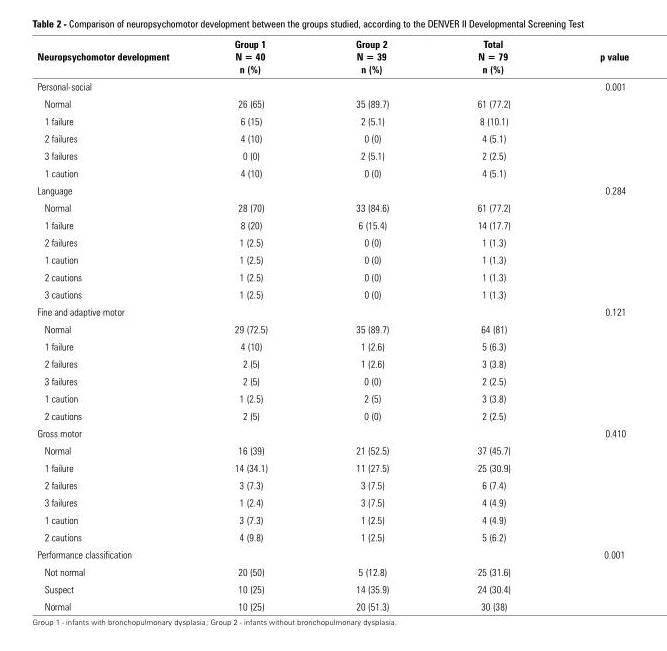table: (36, 37, 628, 611)
table column: (36, 37, 201, 611), (432, 37, 554, 611), (311, 37, 432, 611), (201, 37, 311, 611), (554, 37, 628, 611)
table column header: (36, 37, 628, 77)
table row: (36, 37, 628, 77), (36, 111, 628, 129), (36, 163, 628, 181), (36, 215, 628, 233), (36, 267, 628, 285), (36, 319, 628, 337), (36, 371, 628, 389), (36, 423, 628, 441), (36, 475, 628, 493), (36, 527, 628, 545), (36, 579, 628, 597), (36, 77, 628, 94), (36, 94, 628, 111), (36, 129, 628, 146), (36, 146, 628, 163), (36, 181, 628, 198), (36, 198, 628, 215), (36, 233, 628, 250), (36, 250, 628, 267), (36, 285, 628, 302), (36, 302, 628, 319), (36, 337, 628, 354), (36, 354, 628, 371), (36, 389, 628, 406), (36, 406, 628, 423), (36, 441, 628, 458), (36, 458, 628, 475), (36, 493, 628, 510), (36, 510, 628, 527), (36, 545, 628, 562), (36, 562, 628, 579), (36, 597, 628, 611)
